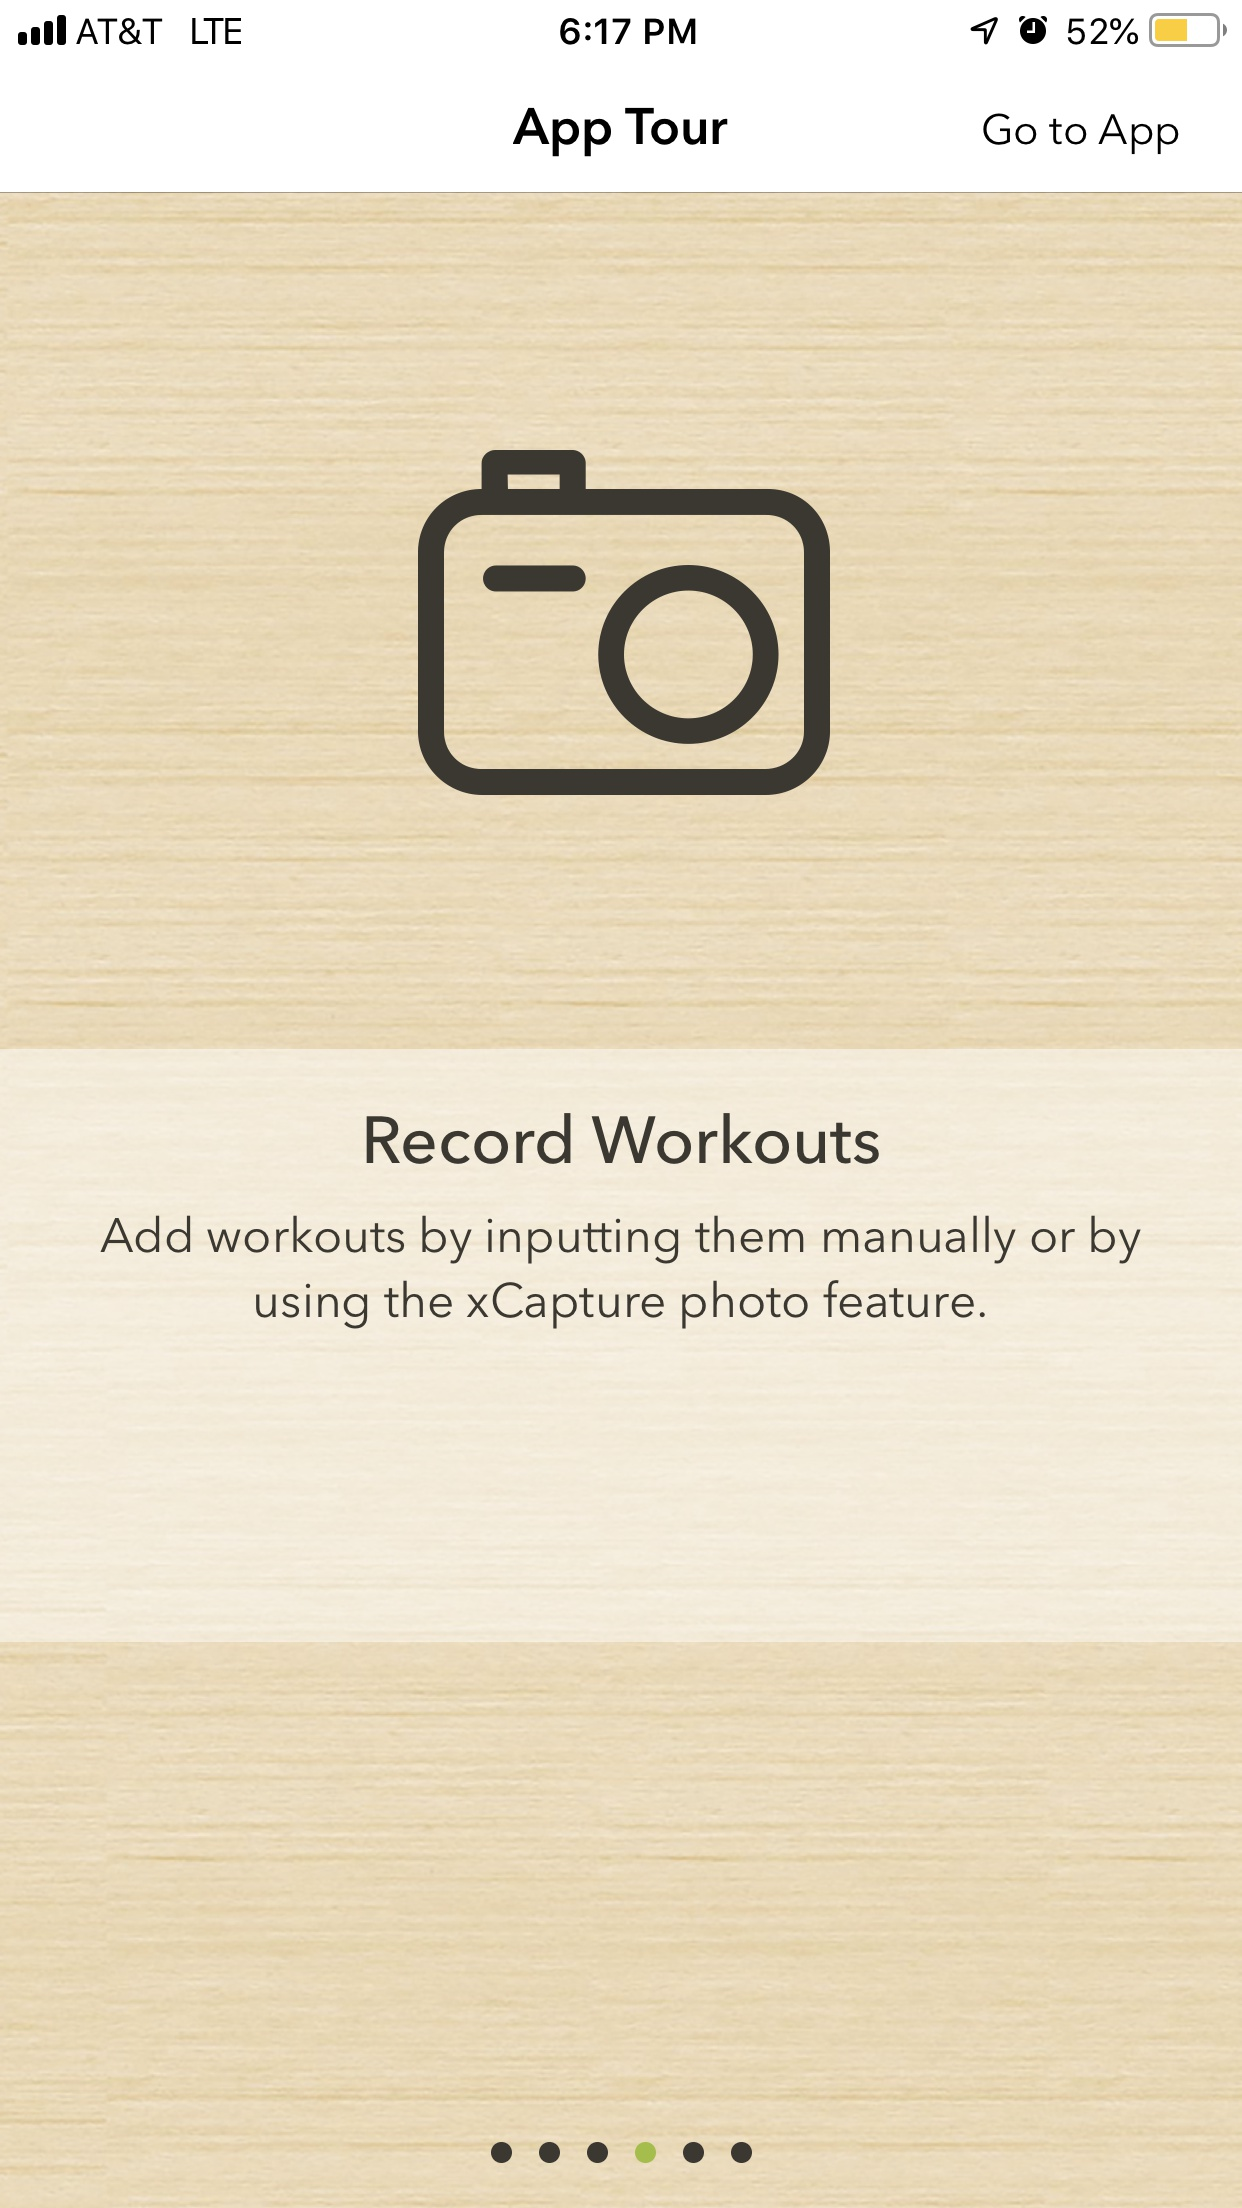Image: (417, 450, 831, 796)
PageIndicator: (490, 2140, 754, 2164)
Text: (102, 1215, 1142, 1330), (365, 1113, 880, 1166), (513, 108, 729, 159), (981, 111, 1177, 155)
UpperTaskBar: (2, 2, 1242, 49)
